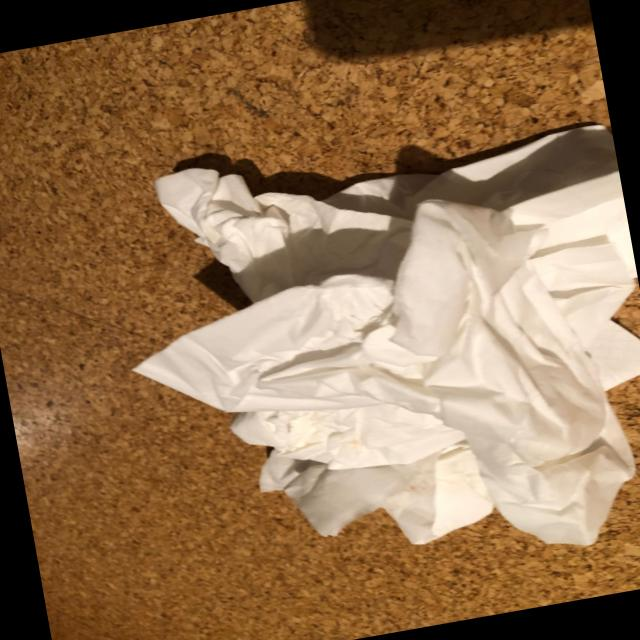organic waste: (109, 172, 636, 622), (150, 88, 640, 452), (224, 371, 477, 492)
